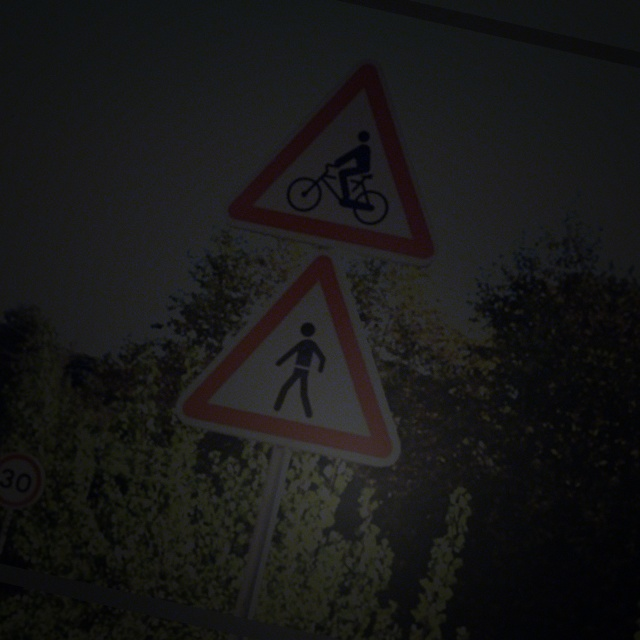Cycle_Crossing: (226, 32, 481, 271)
